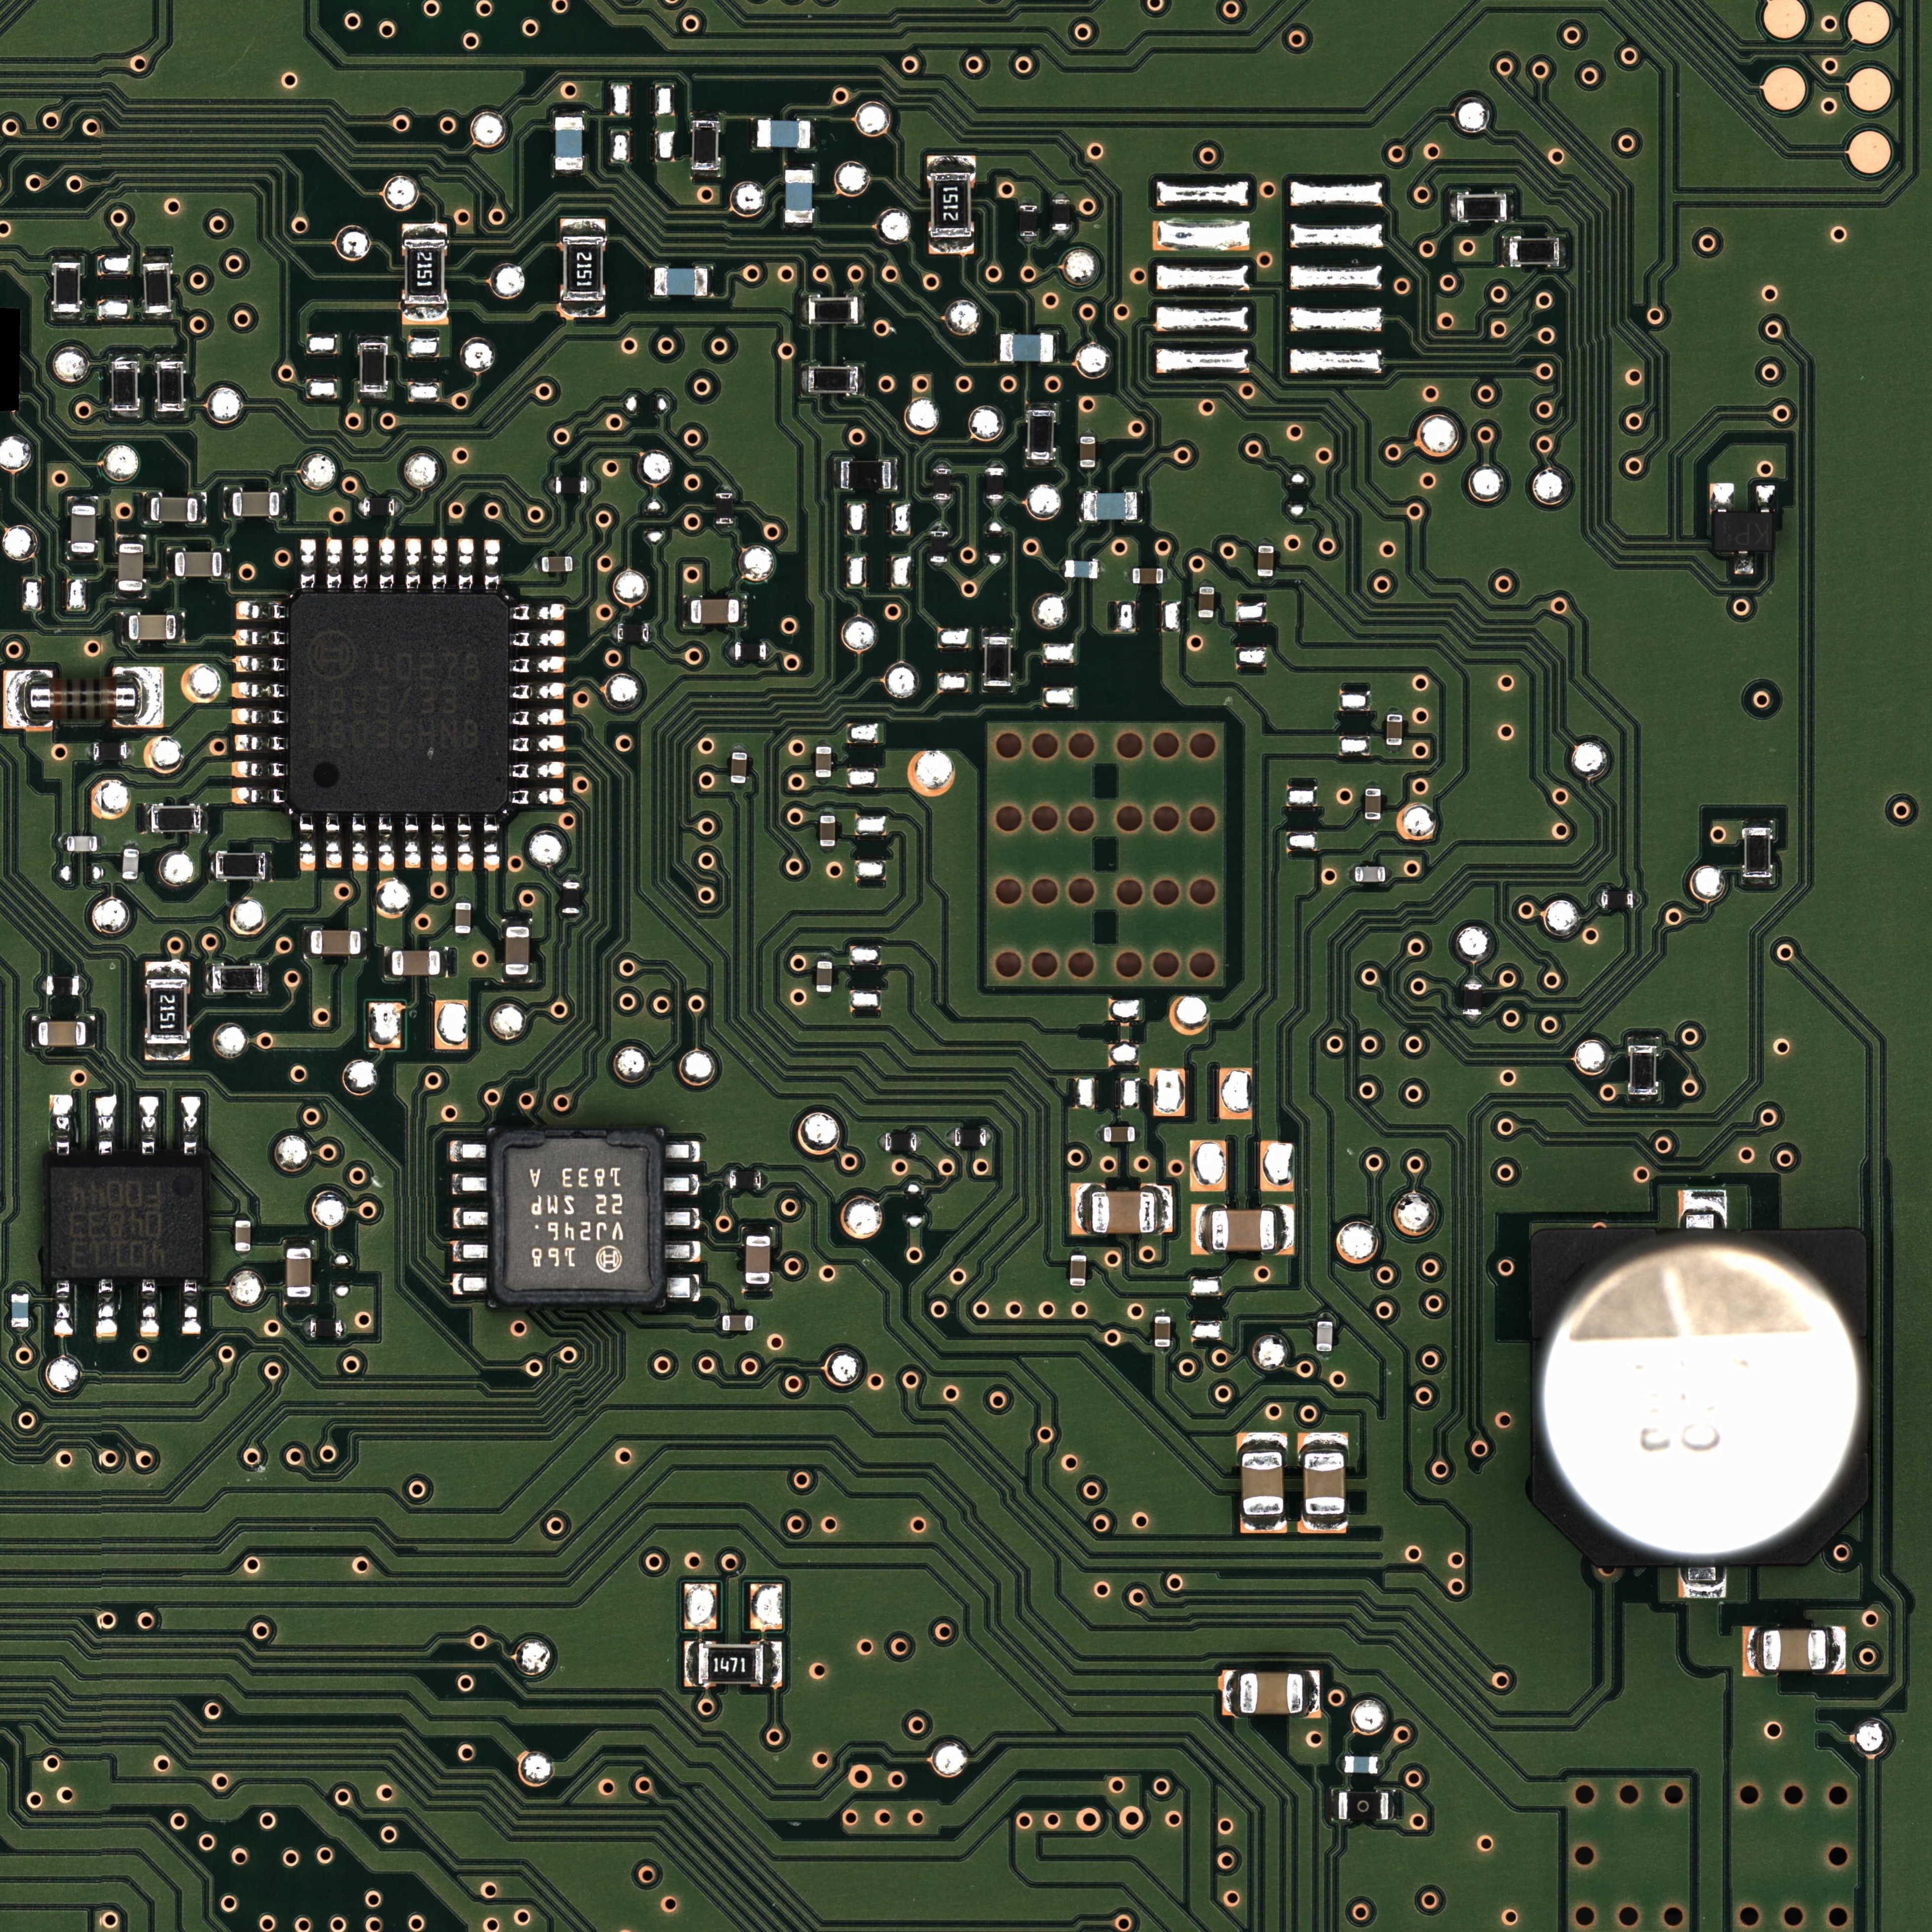Package: (1530, 1230, 1872, 1568), (287, 593, 510, 816), (488, 1131, 663, 1306), (50, 1166, 205, 1277), (27, 676, 138, 720), (1092, 1191, 1155, 1233), (403, 239, 444, 304), (563, 235, 603, 301), (147, 978, 188, 1044), (931, 172, 971, 237), (699, 1644, 763, 1684), (1762, 1629, 1826, 1670), (1212, 1210, 1276, 1251), (1238, 1674, 1304, 1713), (1304, 1453, 1345, 1514), (1242, 1453, 1283, 1514), (1713, 513, 1773, 552), (1083, 492, 1138, 520), (655, 267, 708, 295), (556, 117, 582, 170), (786, 170, 812, 223), (757, 120, 810, 147), (1000, 334, 1053, 361), (1339, 1792, 1389, 1821), (216, 853, 265, 879), (809, 297, 858, 324), (840, 462, 890, 488), (212, 966, 262, 993), (1458, 195, 1507, 221), (1744, 828, 1771, 878), (692, 598, 740, 625), (152, 805, 200, 832), (361, 343, 386, 393), (145, 264, 170, 313), (809, 368, 858, 393), (157, 361, 182, 410), (694, 120, 718, 170), (391, 950, 441, 975), (311, 931, 361, 955), (745, 1235, 770, 1284), (287, 1247, 311, 1297), (1509, 239, 1559, 264), (985, 637, 1010, 686), (1028, 410, 1053, 460), (1631, 1046, 1656, 1095), (232, 492, 280, 517), (119, 543, 143, 591), (55, 264, 80, 311), (175, 552, 223, 577), (150, 497, 198, 522), (129, 616, 175, 640), (71, 506, 96, 552), (113, 361, 136, 410), (39, 1021, 85, 1046), (506, 927, 529, 975), (46, 977, 80, 996), (617, 623, 649, 642), (363, 497, 395, 517), (1463, 984, 1483, 1016), (94, 743, 127, 761), (11, 1293, 28, 1327), (1065, 561, 1099, 579), (1345, 1755, 1378, 1773), (734, 642, 766, 660), (563, 881, 580, 913), (985, 467, 1003, 499), (932, 469, 950, 501), (310, 1320, 341, 1338), (729, 1171, 761, 1189), (1601, 892, 1633, 909), (931, 531, 948, 563), (1019, 205, 1037, 237), (1364, 789, 1382, 819), (1385, 715, 1403, 745), (1053, 200, 1070, 230), (955, 1129, 985, 1146), (541, 556, 573, 571), (556, 478, 587, 494), (731, 752, 747, 784), (722, 1315, 754, 1330), (885, 1134, 916, 1150), (1258, 545, 1274, 577), (1070, 1254, 1086, 1286), (67, 835, 97, 851), (717, 494, 732, 524), (122, 849, 138, 879), (455, 902, 471, 932), (819, 816, 835, 846), (816, 747, 832, 777), (235, 1221, 251, 1251), (1355, 867, 1385, 883), (1079, 437, 1095, 467), (1198, 587, 1214, 617), (1132, 568, 1162, 584), (1316, 1322, 1332, 1352), (1155, 1316, 1171, 1346), (817, 961, 832, 993), (1104, 1127, 1134, 1141)
Solder: (1679, 1191, 1727, 1228), (1679, 1568, 1727, 1598), (50, 1095, 73, 1157), (140, 667, 163, 727), (4, 671, 27, 729), (96, 1095, 117, 1155), (96, 1279, 117, 1339), (53, 1281, 74, 1338), (180, 1095, 200, 1155), (140, 1281, 159, 1339), (235, 600, 287, 621), (182, 1281, 202, 1336), (511, 603, 566, 623), (510, 628, 564, 648), (510, 655, 564, 674), (140, 1095, 157, 1155), (234, 628, 287, 648), (511, 761, 564, 780), (511, 734, 564, 754), (430, 816, 448, 872), (456, 816, 474, 872), (403, 814, 421, 870), (483, 816, 501, 872), (510, 683, 566, 701), (665, 1274, 701, 1302), (234, 655, 285, 674), (1072, 1184, 1092, 1235), (232, 708, 287, 725), (232, 681, 287, 699), (232, 761, 287, 778), (510, 709, 564, 727), (1299, 1433, 1348, 1453), (232, 787, 285, 805), (326, 538, 343, 591), (234, 734, 287, 752), (511, 787, 564, 805), (402, 306, 449, 326), (352, 814, 368, 872), (379, 814, 395, 872), (299, 814, 315, 872), (1826, 1626, 1845, 1674), (483, 540, 501, 591), (326, 814, 341, 870), (1276, 1205, 1293, 1254), (1237, 1433, 1286, 1451), (1299, 1514, 1348, 1532), (1744, 1626, 1762, 1675), (379, 538, 395, 591), (301, 538, 317, 591), (405, 538, 421, 591), (352, 538, 368, 591), (458, 538, 474, 591), (432, 538, 448, 591), (1194, 1207, 1212, 1254), (449, 1141, 488, 1162), (764, 1642, 782, 1688), (1240, 1514, 1286, 1532), (453, 1240, 490, 1261), (927, 156, 977, 172), (561, 218, 605, 235), (1223, 1670, 1240, 1714), (1155, 1185, 1171, 1233), (453, 1274, 488, 1295), (665, 1141, 701, 1162), (665, 1240, 701, 1261), (665, 1208, 701, 1230), (402, 223, 448, 239), (145, 962, 191, 978), (145, 1044, 191, 1060), (929, 239, 975, 255), (1304, 1670, 1320, 1716), (451, 1175, 488, 1194), (561, 303, 605, 318), (1709, 483, 1734, 511), (453, 1208, 488, 1228), (663, 1175, 699, 1194), (685, 1642, 697, 1686), (1757, 485, 1775, 513), (1734, 552, 1753, 575), (1741, 817, 1773, 828), (1628, 1035, 1660, 1046), (175, 612, 186, 642), (85, 1017, 96, 1047), (1741, 878, 1775, 886), (67, 497, 99, 506), (120, 612, 129, 644), (166, 547, 175, 579), (142, 492, 150, 524), (115, 534, 147, 543), (441, 947, 449, 978), (115, 591, 147, 600), (890, 458, 899, 490), (741, 1226, 773, 1235), (501, 975, 533, 984), (982, 628, 1014, 637), (156, 410, 186, 419), (51, 253, 81, 262), (110, 352, 140, 361), (200, 803, 209, 833), (198, 494, 207, 524), (303, 927, 311, 957), (223, 488, 232, 518), (221, 548, 230, 579), (285, 1297, 315, 1306), (283, 1238, 313, 1247), (800, 364, 809, 395), (690, 170, 720, 179), (683, 596, 692, 626), (738, 596, 747, 626), (1026, 402, 1056, 410), (502, 918, 531, 927), (142, 255, 173, 262), (67, 554, 99, 561), (384, 947, 391, 978), (648, 265, 655, 297), (833, 458, 840, 490), (1053, 331, 1060, 363), (982, 686, 1014, 694), (1330, 1789, 1338, 1821), (1559, 235, 1566, 267), (1502, 235, 1509, 267), (156, 354, 186, 361), (110, 410, 140, 418), (51, 313, 81, 320), (143, 313, 173, 320), (143, 803, 150, 833), (280, 488, 287, 518), (265, 851, 272, 881), (205, 964, 212, 994), (32, 1017, 39, 1047), (786, 163, 816, 170), (750, 119, 757, 149), (810, 119, 817, 149), (801, 294, 809, 324), (858, 295, 865, 326), (858, 364, 865, 395), (784, 223, 814, 230), (554, 110, 584, 117), (554, 170, 584, 177), (743, 1284, 773, 1292), (1026, 460, 1056, 467), (1389, 1790, 1396, 1821), (1507, 191, 1514, 221), (1451, 191, 1458, 221), (1628, 1095, 1658, 1102), (359, 334, 387, 341), (359, 393, 387, 400), (209, 851, 216, 879), (361, 929, 368, 957), (262, 964, 269, 993), (692, 113, 720, 120), (706, 267, 713, 295), (715, 524, 734, 533), (1463, 1016, 1483, 1024), (994, 333, 1000, 363), (1138, 490, 1143, 520), (122, 840, 140, 849), (85, 743, 94, 761), (1077, 492, 1083, 520), (58, 835, 67, 851), (1079, 428, 1095, 437), (1123, 568, 1132, 584), (1070, 1247, 1086, 1256), (11, 1327, 30, 1334), (11, 1286, 30, 1293), (715, 485, 734, 492), (1051, 230, 1070, 237), (1058, 559, 1065, 579), (80, 977, 87, 994), (303, 1320, 310, 1338), (39, 977, 46, 994), (766, 642, 773, 660), (931, 524, 948, 531), (761, 1171, 768, 1189), (947, 1129, 954, 1146), (722, 1171, 729, 1189), (987, 460, 1005, 467), (1079, 467, 1097, 474), (1019, 198, 1037, 205), (1200, 579, 1214, 587), (1364, 782, 1382, 789), (1099, 561, 1106, 579), (985, 499, 1003, 506), (1318, 1313, 1332, 1322), (985, 1129, 993, 1146), (1154, 1309, 1171, 1316), (1338, 1755, 1345, 1773), (1633, 892, 1640, 909), (1465, 977, 1483, 984), (455, 895, 471, 902), (97, 835, 104, 851), (127, 743, 134, 759), (395, 499, 402, 515), (122, 879, 138, 886), (455, 932, 471, 939), (235, 1214, 251, 1221), (934, 462, 950, 469), (934, 499, 950, 506), (587, 478, 594, 494), (563, 876, 579, 883), (878, 1134, 885, 1150), (916, 1134, 924, 1150), (752, 1315, 759, 1330), (1053, 191, 1069, 198), (1164, 568, 1171, 584), (1198, 617, 1214, 625), (235, 1251, 249, 1258), (610, 626, 617, 640), (548, 478, 556, 492), (1387, 708, 1401, 715), (1366, 819, 1380, 826), (1387, 745, 1401, 752), (1097, 1127, 1104, 1141), (1070, 1286, 1085, 1293), (563, 913, 580, 918), (1019, 237, 1037, 242), (1378, 1757, 1384, 1775), (357, 499, 363, 515), (341, 1322, 347, 1338), (931, 563, 947, 568), (729, 644, 734, 660), (816, 741, 832, 747), (1258, 540, 1274, 545), (1258, 577, 1274, 582), (1316, 1352, 1332, 1357), (1136, 1127, 1141, 1143), (1596, 892, 1601, 908), (573, 557, 579, 571), (732, 747, 747, 752), (649, 626, 655, 640), (816, 777, 830, 782), (536, 557, 541, 571), (817, 955, 832, 961), (717, 1316, 722, 1330), (817, 993, 832, 998), (1385, 867, 1391, 881), (1350, 867, 1355, 881), (1155, 1346, 1169, 1352), (821, 810, 833, 816), (821, 847, 833, 853), (731, 784, 745, 787)
